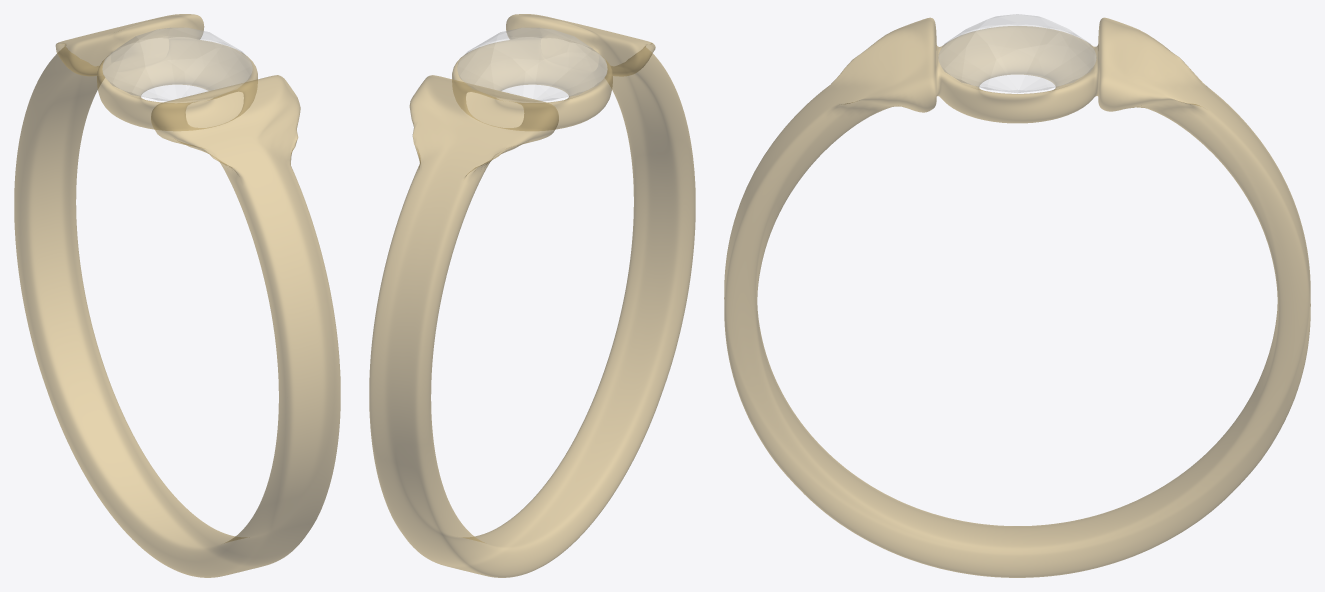
3 renders of one model, left to right at view 1: azimuth 30°, elevation 25°; view 2: azimuth 150°, elevation 25°; view 3: azimuth 270°, elevation 25°, orthographic. The views are drawn at different scales.
Parts seen in each view (by area): view 1: Ring, Diamond; view 2: Ring, Diamond; view 3: Ring, Diamond.
Part boxes in pixels (bbox=[...]): Ring: bbox=[14, 14, 340, 577]; Diamond: bbox=[102, 28, 252, 101]; Ring: bbox=[369, 14, 695, 577]; Diamond: bbox=[457, 28, 607, 101]; Ring: bbox=[724, 17, 1310, 577]; Diamond: bbox=[938, 14, 1096, 92].
Size of the model in its own units: 0.6542 by 2.28 by 2.27.
